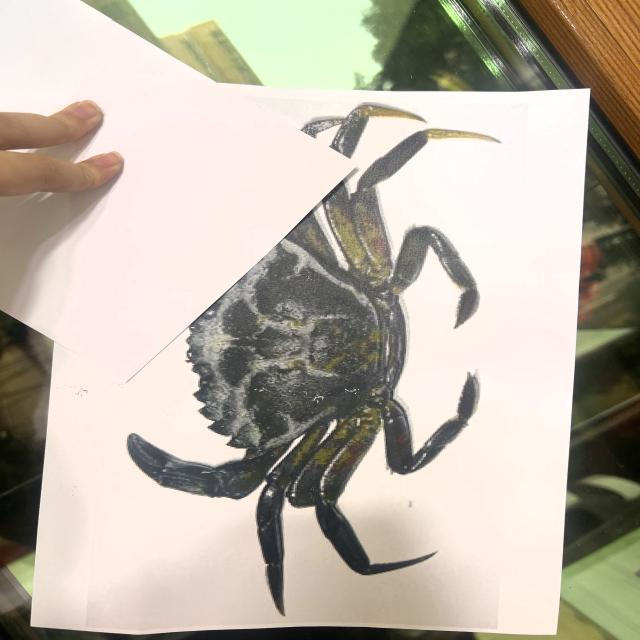European_Green_Crab: (110, 91, 507, 626)
